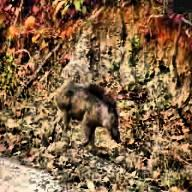boar: (48, 70, 137, 150)
